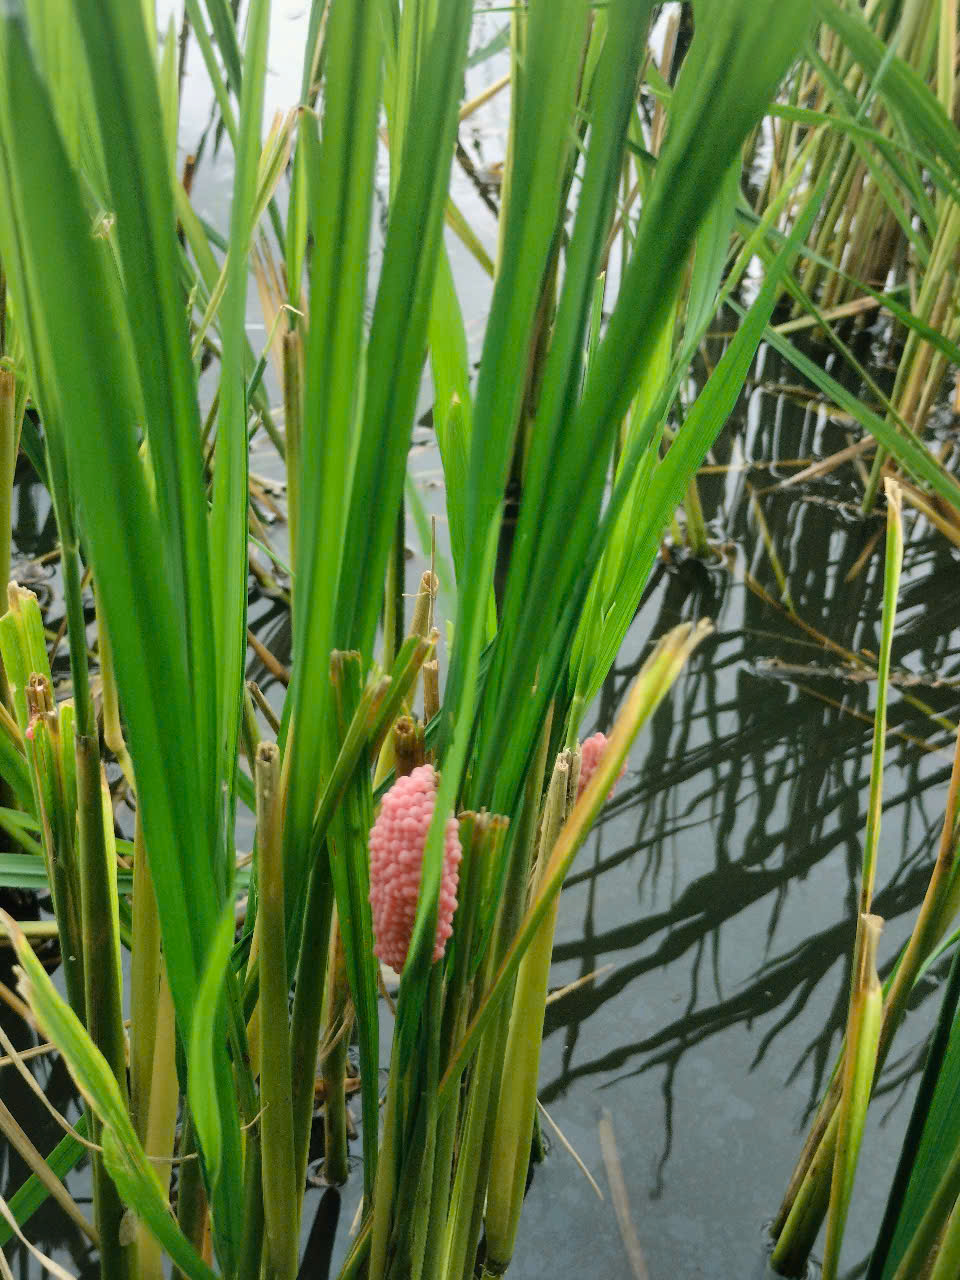trung_oc_buou_vang: (359, 715, 506, 955)
